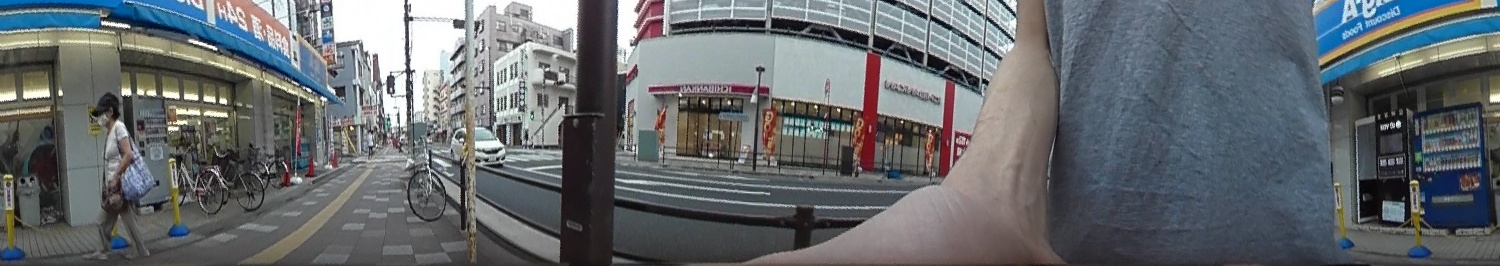difficult_person: (364, 129, 374, 158)
person: (91, 88, 149, 265)
